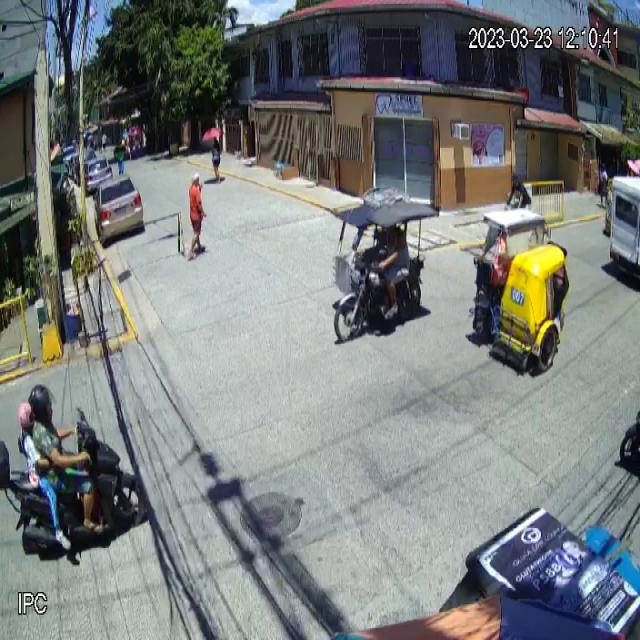Car: (94, 173, 145, 242)
Motorcycle: (0, 406, 147, 558)
Tricycle: (470, 207, 570, 373), (333, 198, 439, 342)
